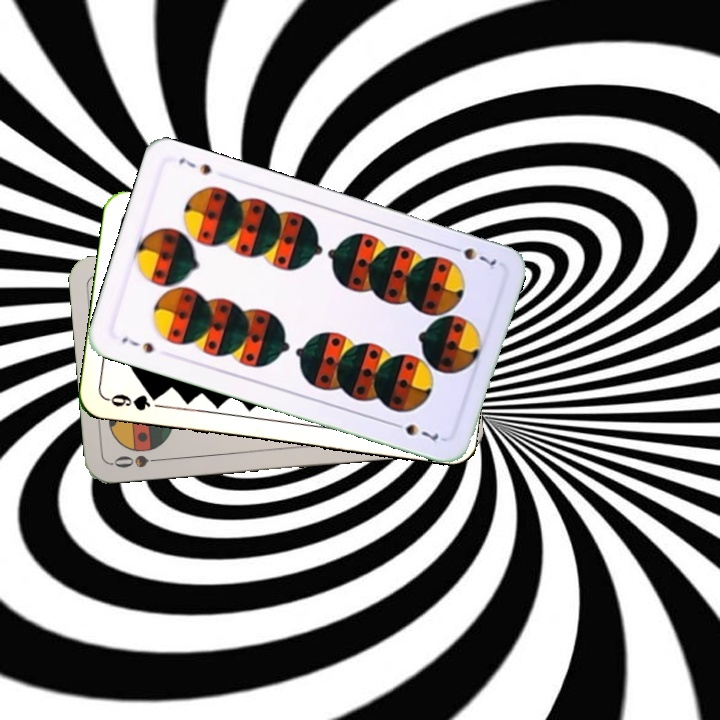G9: (103, 389, 163, 413)
S7: (444, 241, 499, 272), (117, 333, 156, 356)
SO: (109, 450, 168, 471)
